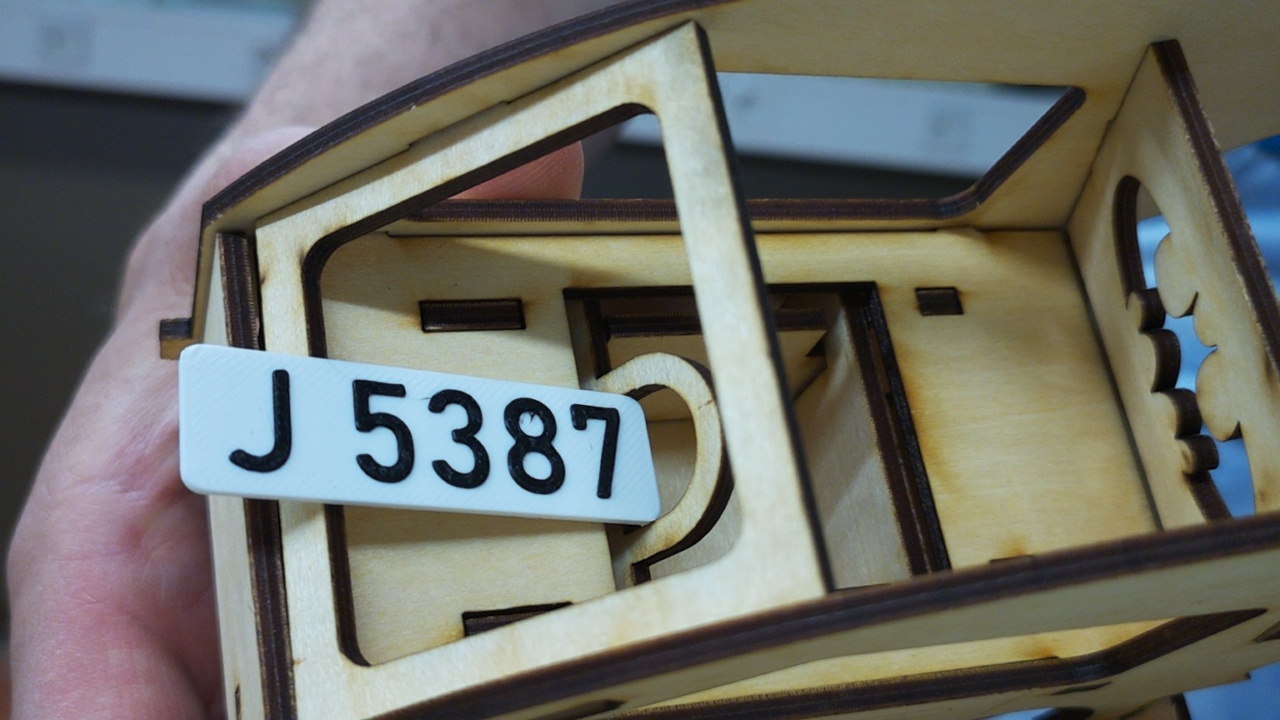license_plate: (175, 339, 665, 525)
